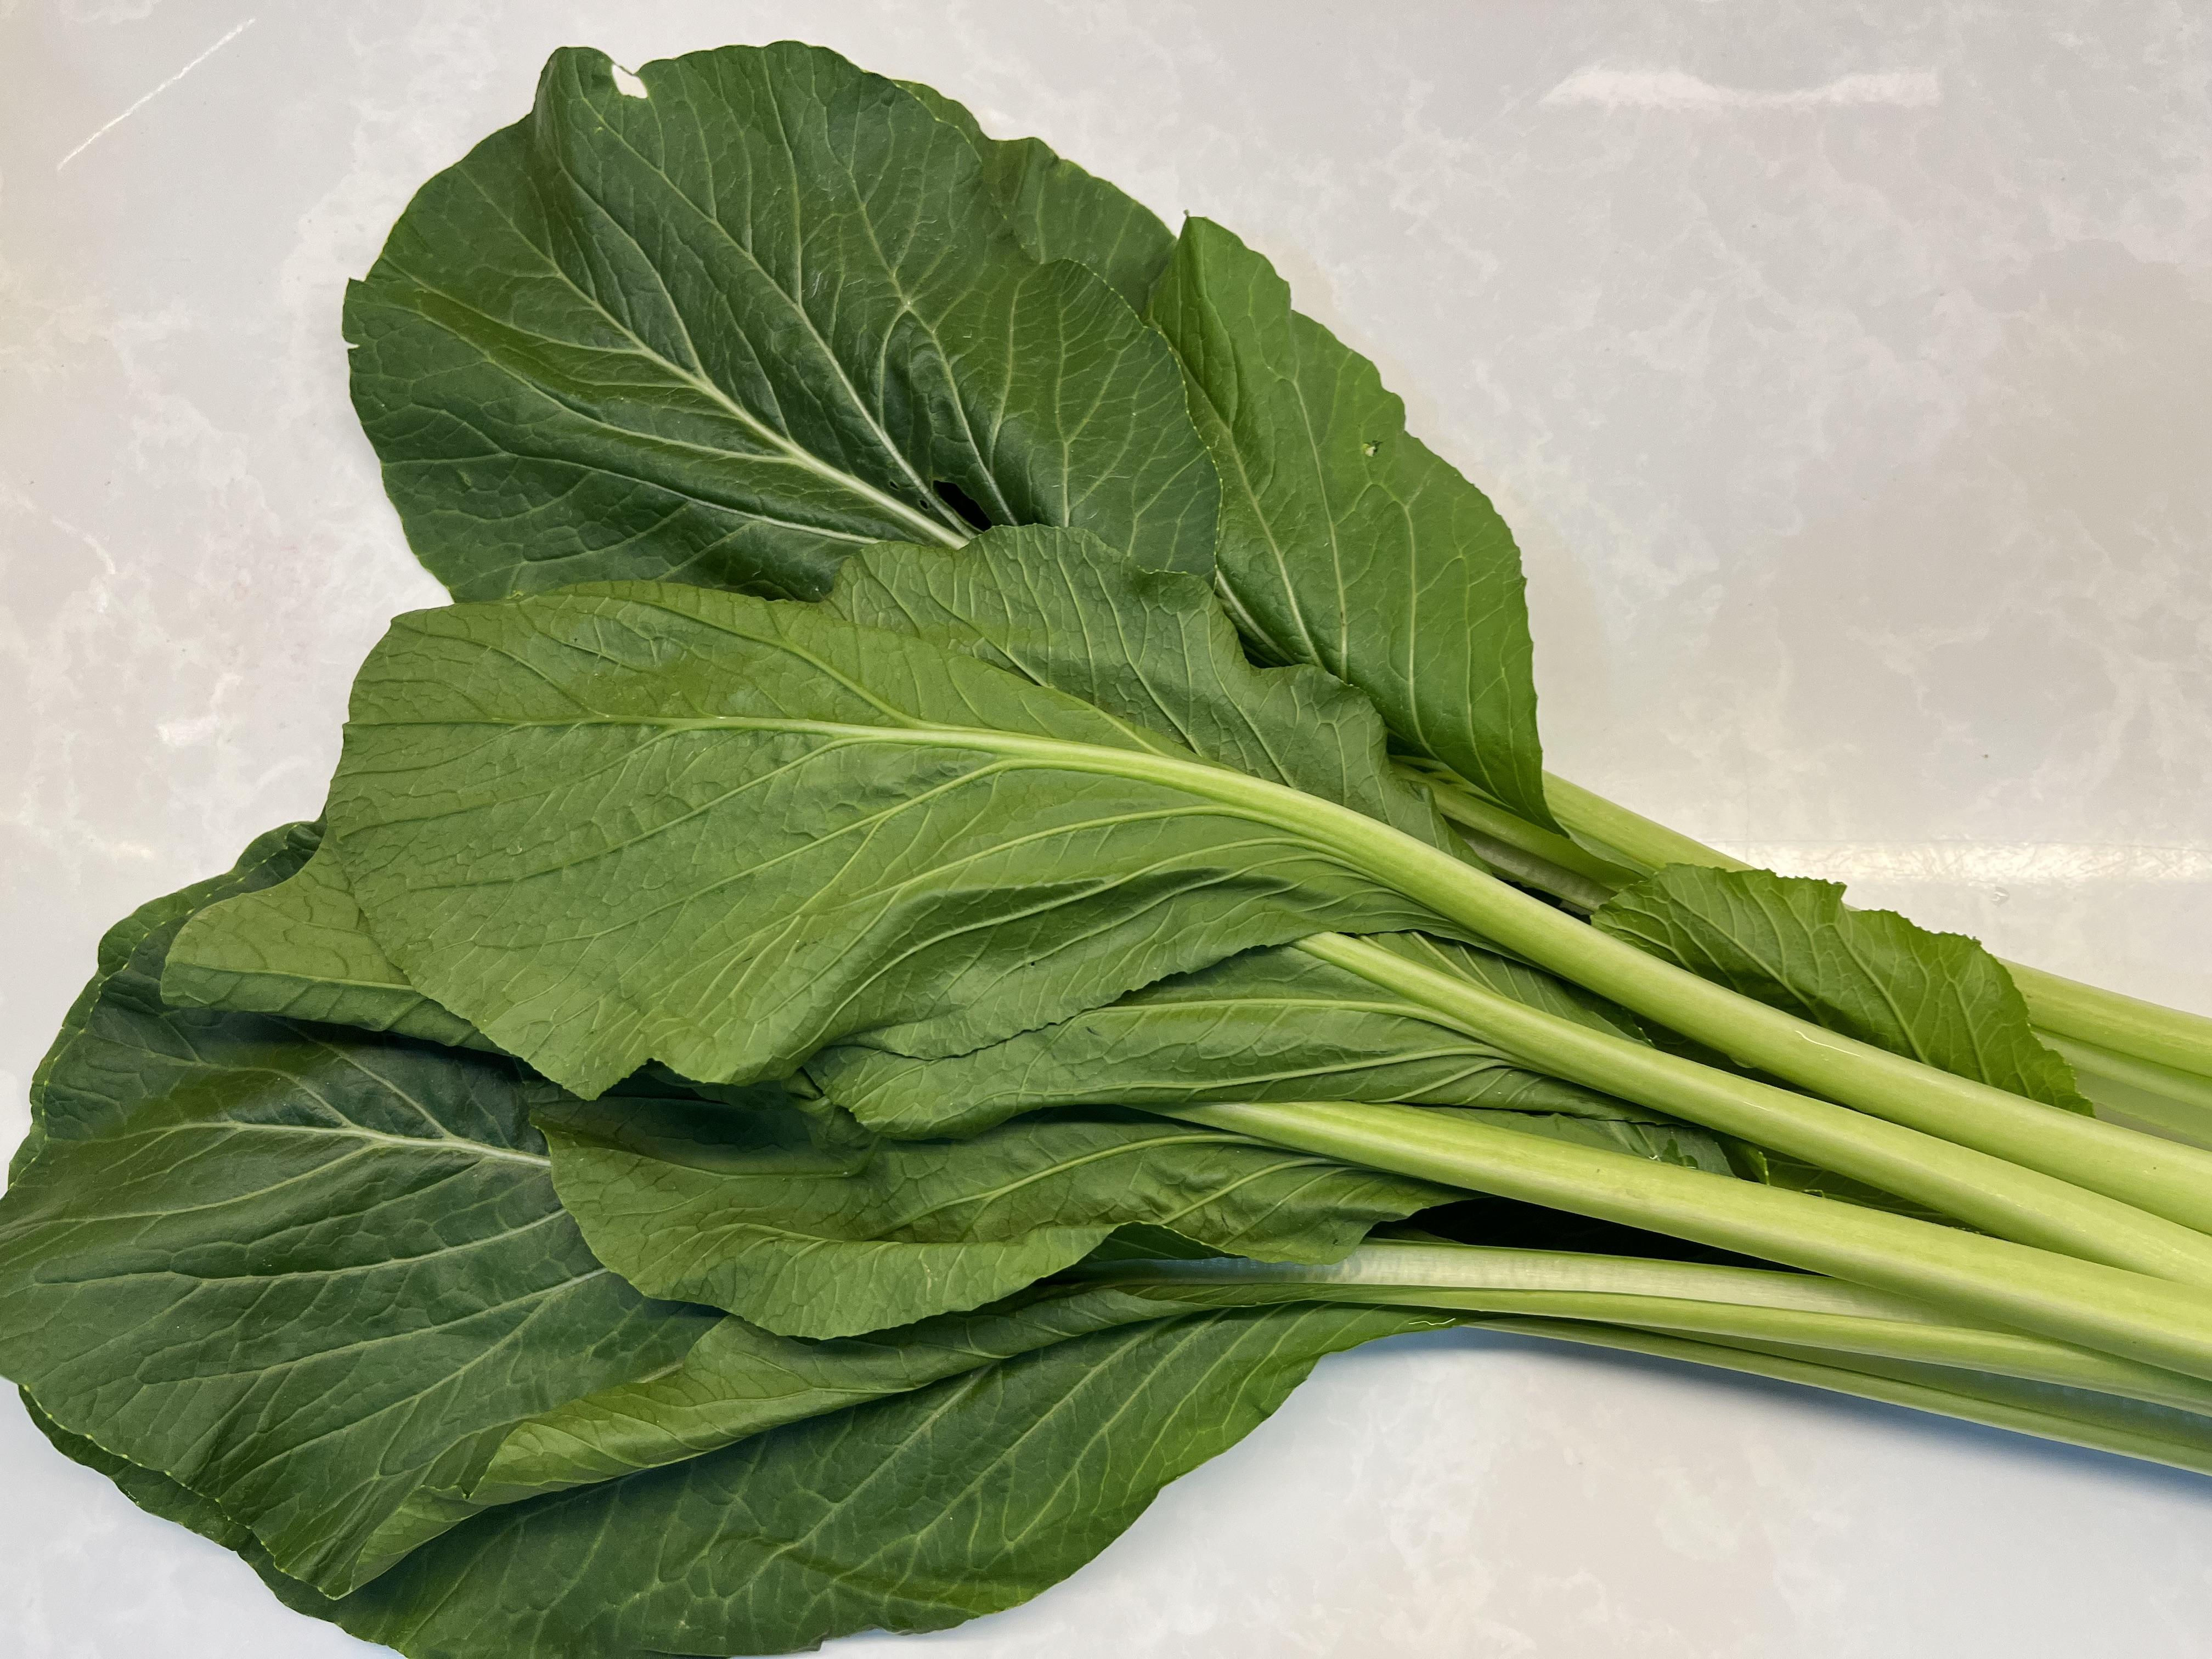Healthy-Pechay: (44, 0, 2212, 1659)
